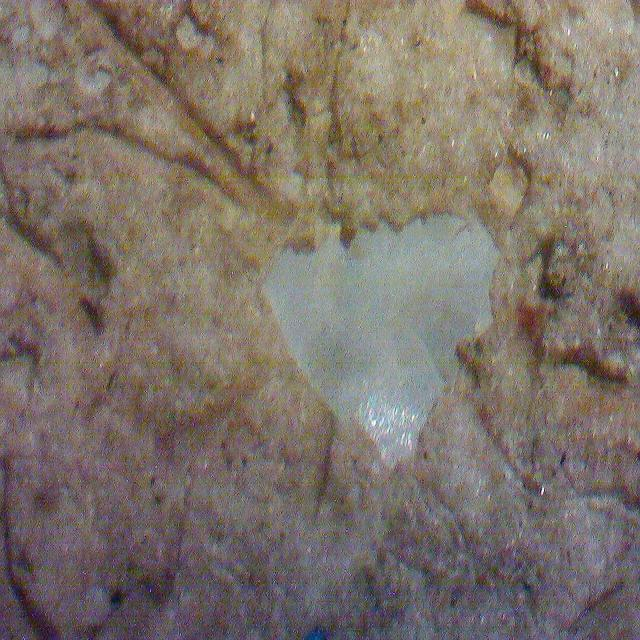microplastic: (251, 178, 557, 488)
